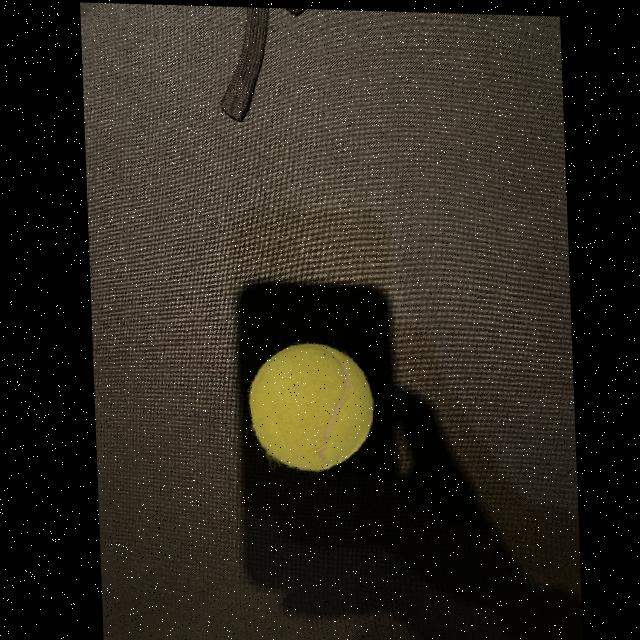Tennisball: (249, 343, 374, 472)
